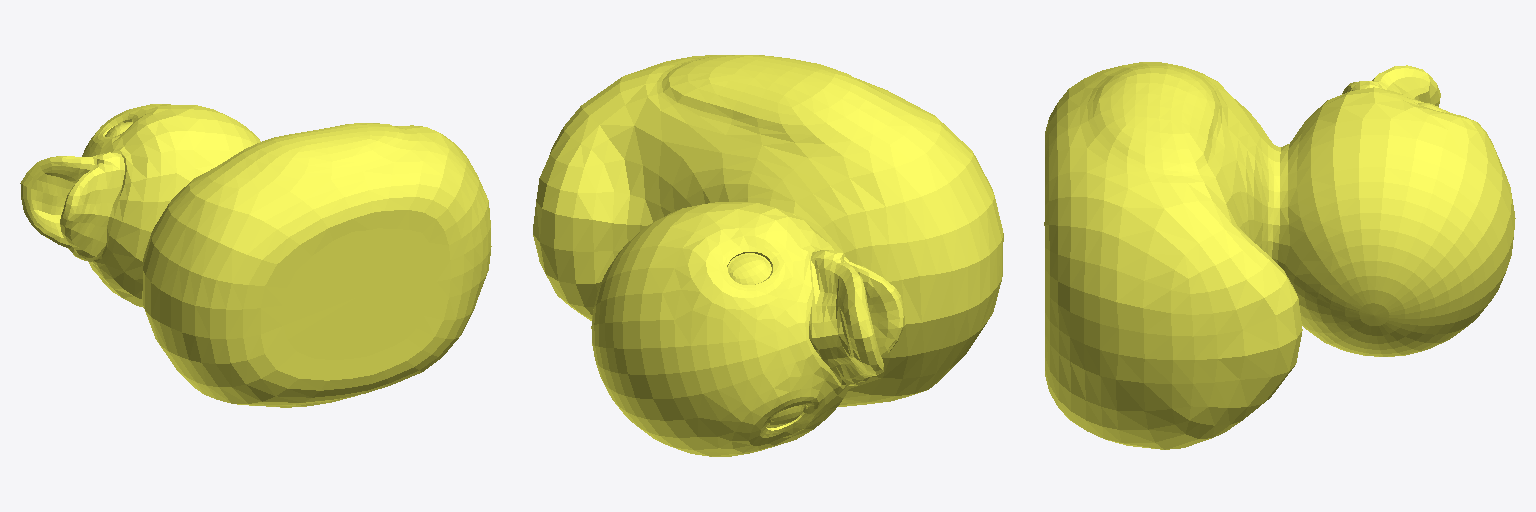
The robot description file, URDF, robot "duck":
<?xml version="1.0" ?>
<robot name="duck">
  <link name="baseLink">
    <contact>
      <lateral_friction value="1.0"/>
      <rolling_friction value="10.0"/>
      <spinning_friction value="1.0"/>
      <contact_erp value="0.5"/>
    </contact>
    <inertial>
      <origin rpy="0 0 0" xyz="0.0 0.02 0.0"/>
       <mass value="2.25"/>
       <inertia ixx="1" ixy="0" ixz="0" iyy="1" iyz="0" izz="1"/>
    </inertial>
    <visual>
      <origin rpy="0 0 0" xyz="0 0 0"/>
      <geometry>
        <mesh filename="meshes/duck.obj" scale=".05 .05 .05"/>
      </geometry>
       <material name="yellow">
        <color rgba="1 1 0.4 1"/>
      </material>
    </visual>
    <collision>
      <origin rpy="0 0 0" xyz="0 0 0"/>
      <geometry>
	 	    <mesh filename="meshes/duck.obj" scale=".05 .05 .05"/>
      </geometry>
    </collision>
  </link>
</robot>

--- What the picture shows (computed from the rendered views, not written in the file) ---
3 views of the same robot in one strip: view 1: azimuth 30°, elevation 25°; view 2: azimuth 150°, elevation 25°; view 3: azimuth 270°, elevation 25° (orthographic).
Model duck with 1 links and 0 joints (none), rooted at baseLink, posed every joint at zero.
Links seen in each view (by area): view 1: baseLink; view 2: baseLink; view 3: baseLink.
Boxes of the visible links, x1,y1,x2,y2 form: baseLink: (20, 104, 491, 407); baseLink: (533, 55, 1003, 456); baseLink: (1044, 62, 1515, 449).
Bounding box of the posed robot: 0.0827 × 0.077 × 0.0576 m (x, y, z).
Meshes: 1 distinct files referenced, 1 mesh visuals loaded (1 OBJ).